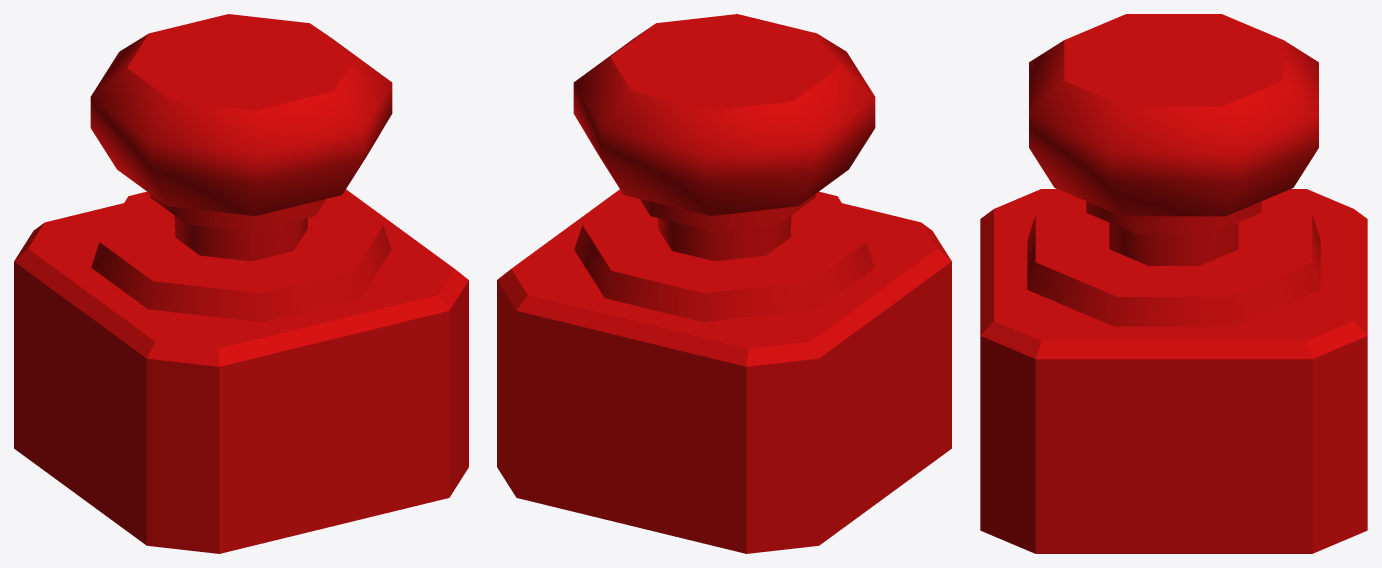
Rendered from F_bossromm_button.fbx.
3 renders of one model, left to right at view 1: azimuth 30°, elevation 25°; view 2: azimuth 150°, elevation 25°; view 3: azimuth 270°, elevation 25°, orthographic. The views are drawn at different scales.
Parts seen in each view (by area): view 1: boss_button; view 2: boss_button; view 3: boss_button.
Part boxes in pixels (left/top/right/bottom): boss_button: left=14, top=14, right=468, bottom=553; boss_button: left=497, top=14, right=951, bottom=553; boss_button: left=980, top=14, right=1367, bottom=553.
Bounding box in the file's own units: 22.98 × 26.96 × 22.98.
